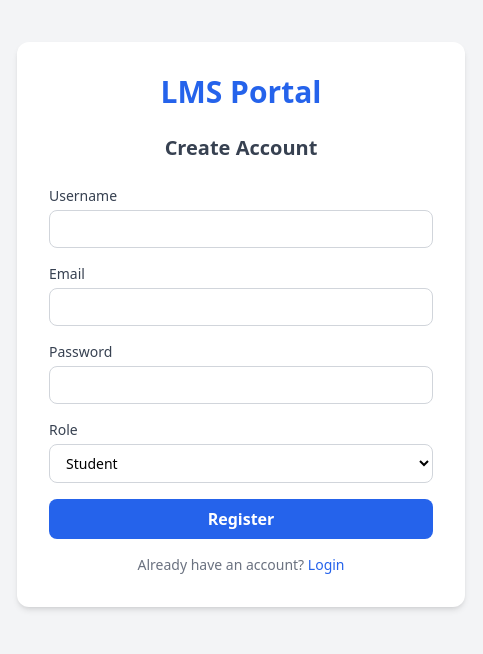
Register Page › shows error when registration fails
Type "student1" into the field labelled "Username" at (241, 228), box top-left (49, 210), bottom-right (433, 248)
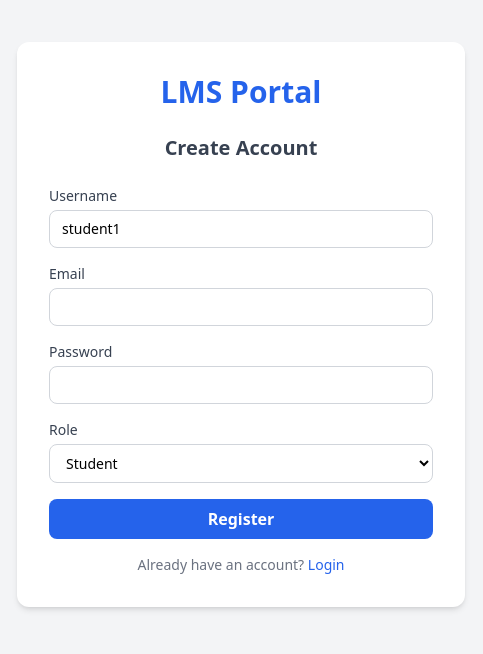
Type "pass1234" into the password field labelled "Password" at (241, 384), box top-left (49, 366), bottom-right (433, 404)
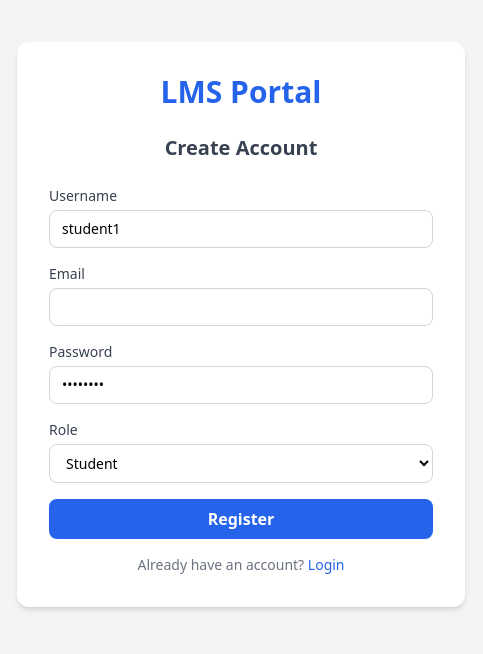
Click the button "Register" at (241, 518), box top-left (49, 498), bottom-right (433, 538)
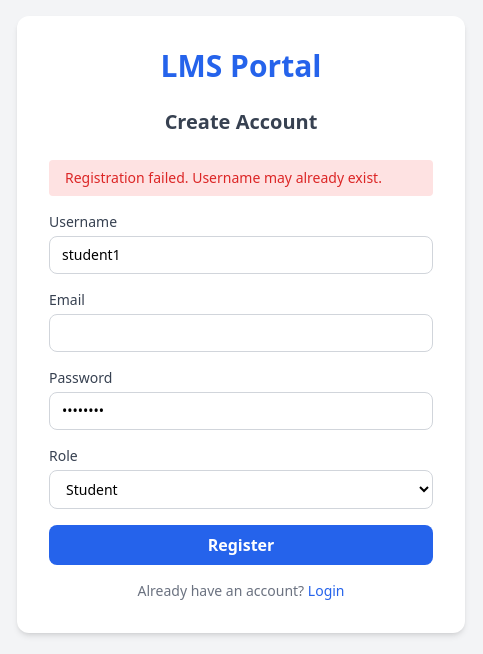
Now the text "Registration failed. Username may already exist." is shown, box top-left (49, 160), bottom-right (433, 196)
